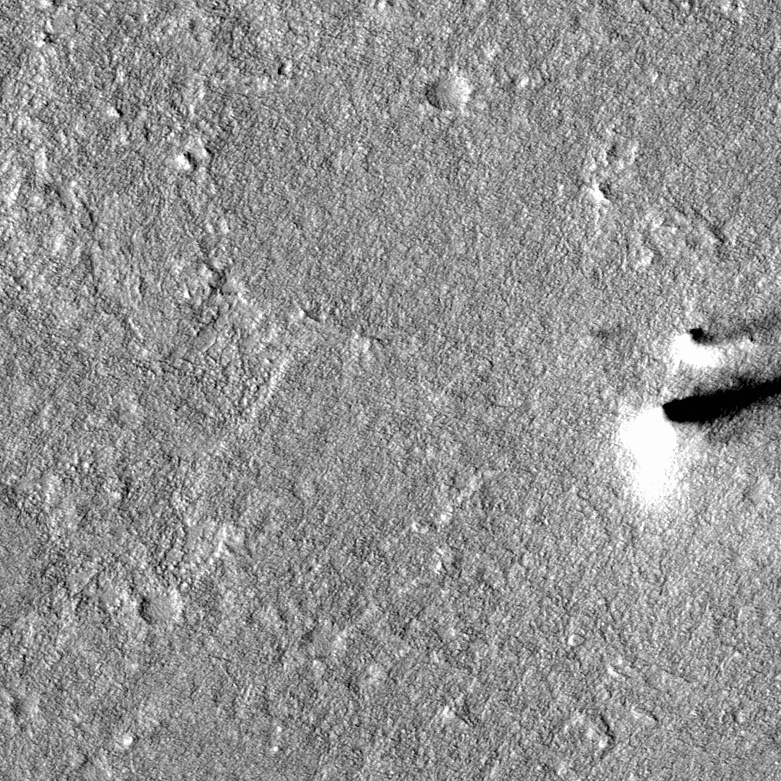dust_devil: (617, 373, 781, 507), (668, 308, 781, 372)
